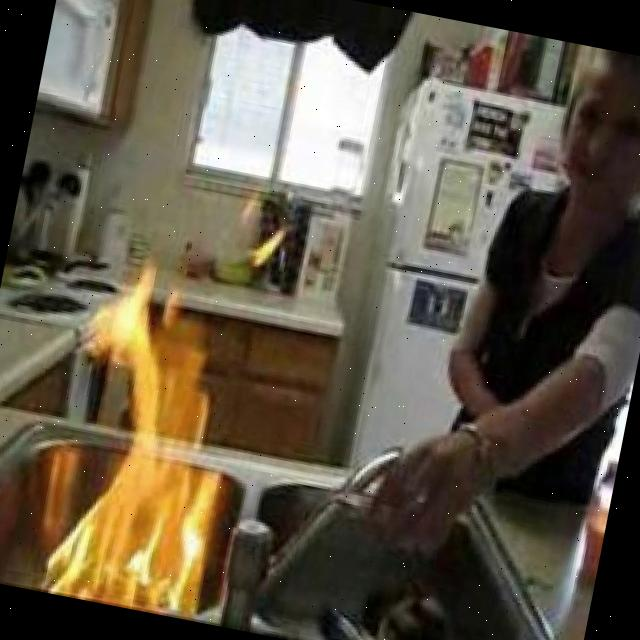fire: (25, 272, 266, 624), (228, 198, 288, 270)
